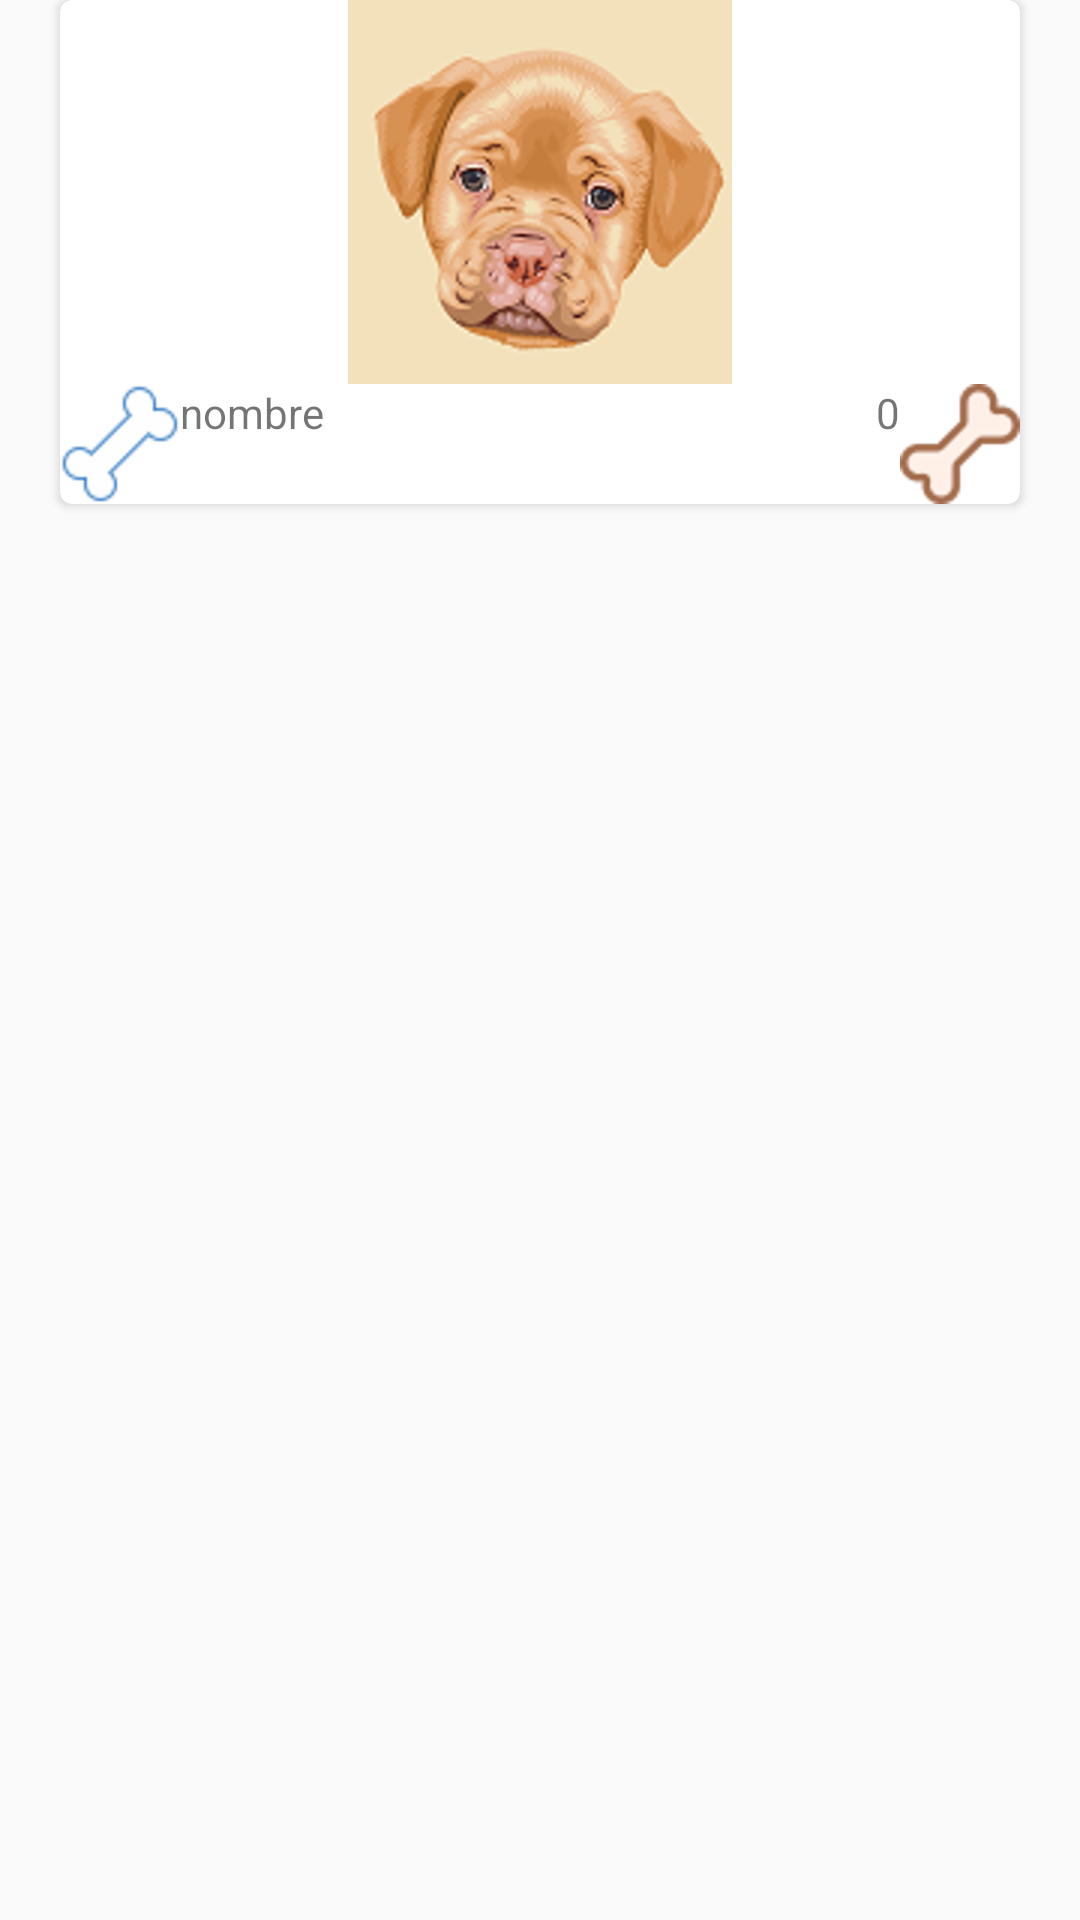

Locate icon controls on the screen. Image size 1080px×1920px, boxes as box(x1, y1, x2, y2).
huesoblanco: box(62, 386, 178, 502)
huesocafe: box(900, 384, 1020, 504)
